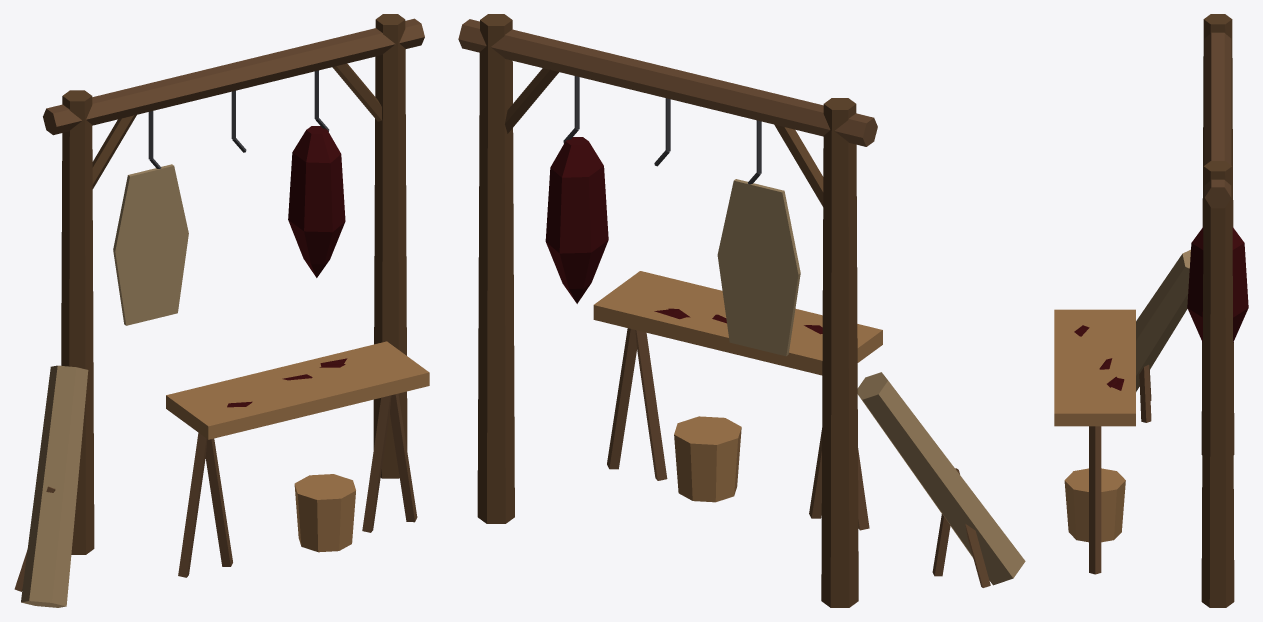
File: SkinningRack.fbx
The picture shows the model from 3 angles, left to right: view 1: azimuth 30°, elevation 25°; view 2: azimuth 150°, elevation 25°; view 3: azimuth 270°, elevation 25°; orthographic projection. The views are drawn at different scales.
Parts seen in each view (by area): view 1: SkinningRack; view 2: SkinningRack; view 3: SkinningRack.
Part boxes in pixels (x1,y1,x2,y2): SkinningRack: [14, 14, 429, 607]; SkinningRack: [458, 14, 1025, 607]; SkinningRack: [1054, 14, 1248, 607].
Size of the model in its own units: 2.44 by 2.35 by 0.95.
